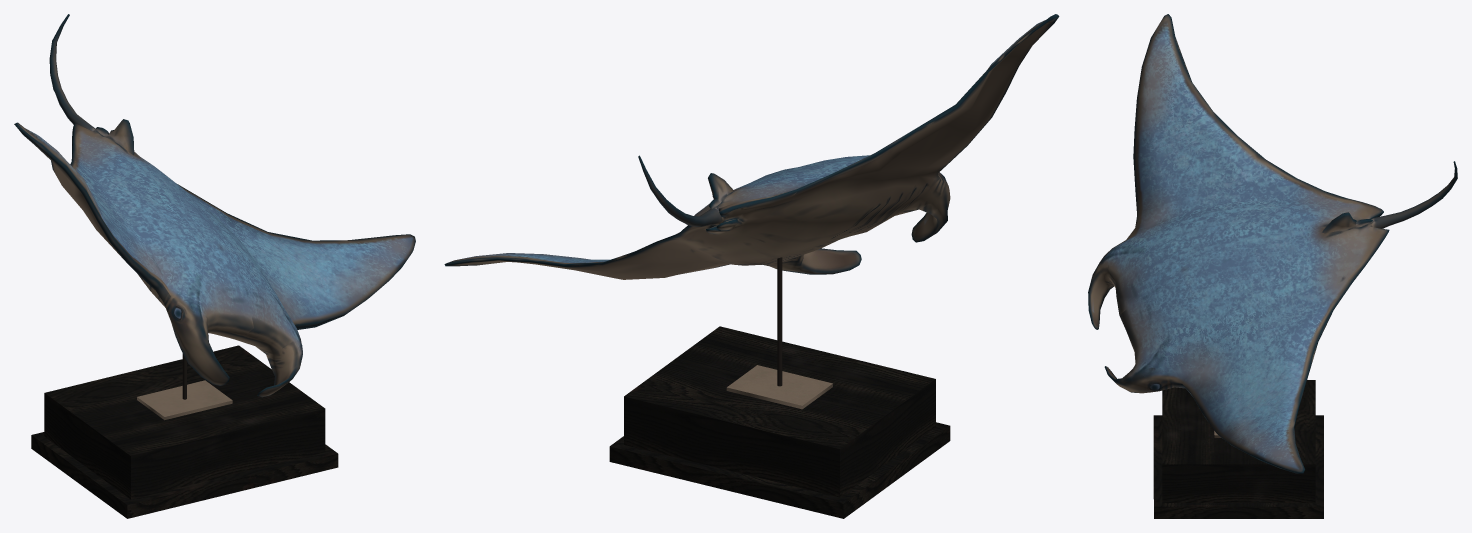
Rendered from bronze_ray_statue.glb.
The picture shows the model from 3 angles, left to right: view 1: azimuth 30°, elevation 25°; view 2: azimuth 150°, elevation 25°; view 3: azimuth 270°, elevation 25°; orthographic projection. The views are drawn at different scales.
Visible parts, largest first — view 1: bronze_ray_statue; view 2: bronze_ray_statue; view 3: bronze_ray_statue.
Part boxes in pixels (x1=…): bronze_ray_statue: x1=14, y1=14, x2=415, y2=518; bronze_ray_statue: x1=444, y1=14, x2=1059, y2=518; bronze_ray_statue: x1=1088, y1=14, x2=1457, y2=518.
Bounding box in the file's own units: 0.7075 × 0.5897 × 0.5355.
1 material, 1 textured.
